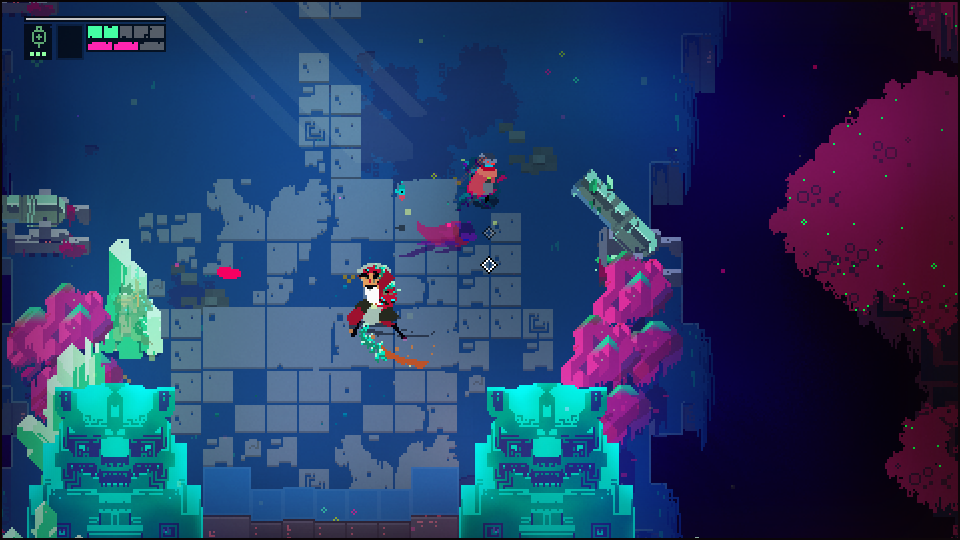hanged_man: (346, 264, 408, 365)
player: (462, 156, 499, 211)
